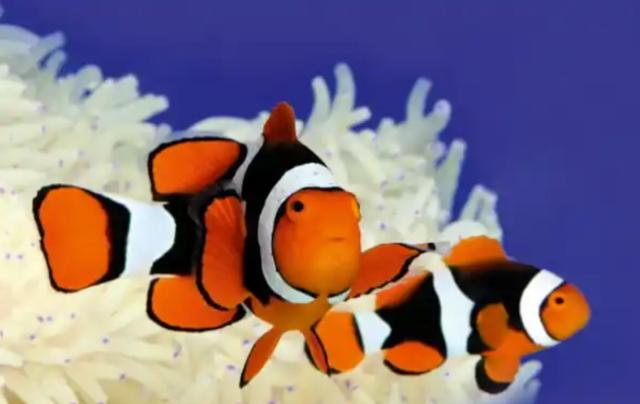Mulut: (292, 221, 370, 276), (566, 282, 604, 344)
Sirip Anal: (140, 258, 252, 340), (375, 327, 451, 389)
Sirip Dada: (176, 176, 262, 315), (454, 288, 516, 362)
Sirip Ekor: (17, 170, 138, 316)
Sirip Perut: (230, 320, 342, 398)
Sirip Punggung: (133, 89, 323, 196)
